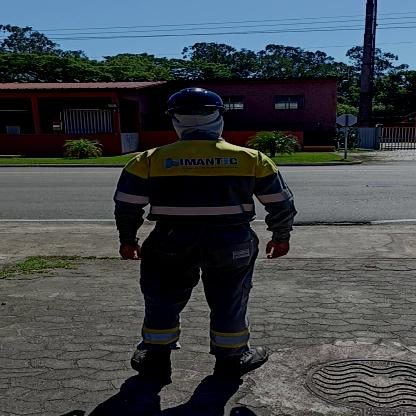Balaclava: (169, 109, 226, 137)
Capacete: (163, 84, 225, 109)
